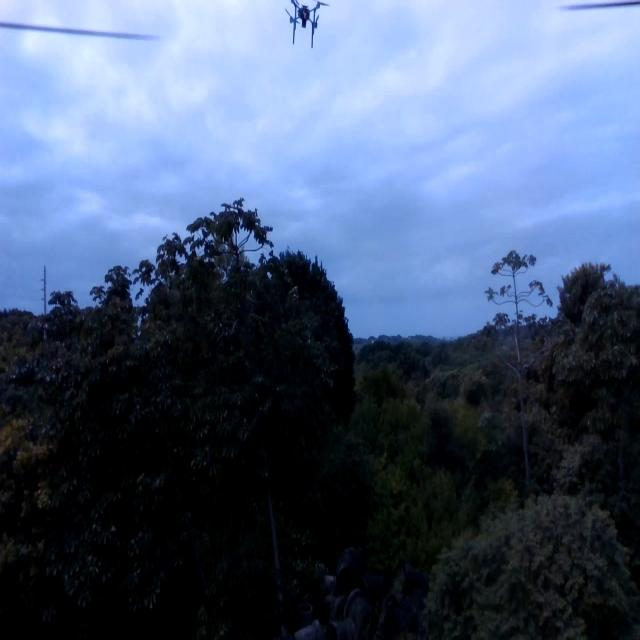-uav-: (282, 0, 333, 54)
